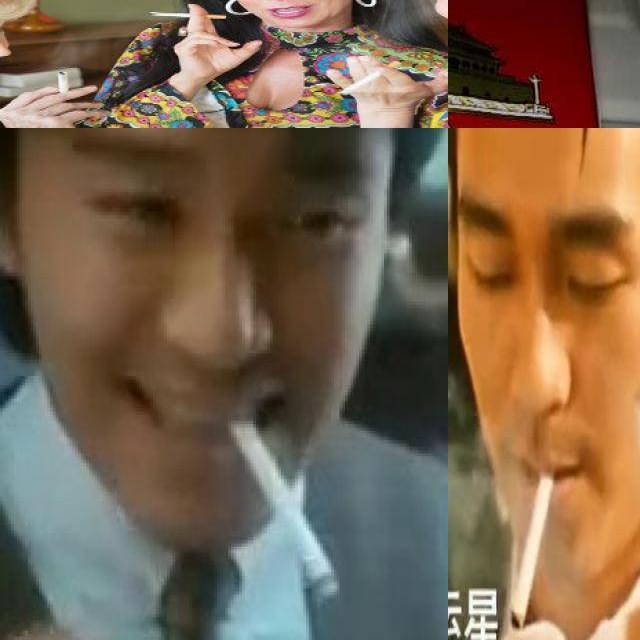smoke: (448, 0, 639, 127), (222, 414, 342, 608), (509, 468, 554, 630), (338, 60, 404, 95), (148, 12, 228, 20), (56, 72, 71, 95)
